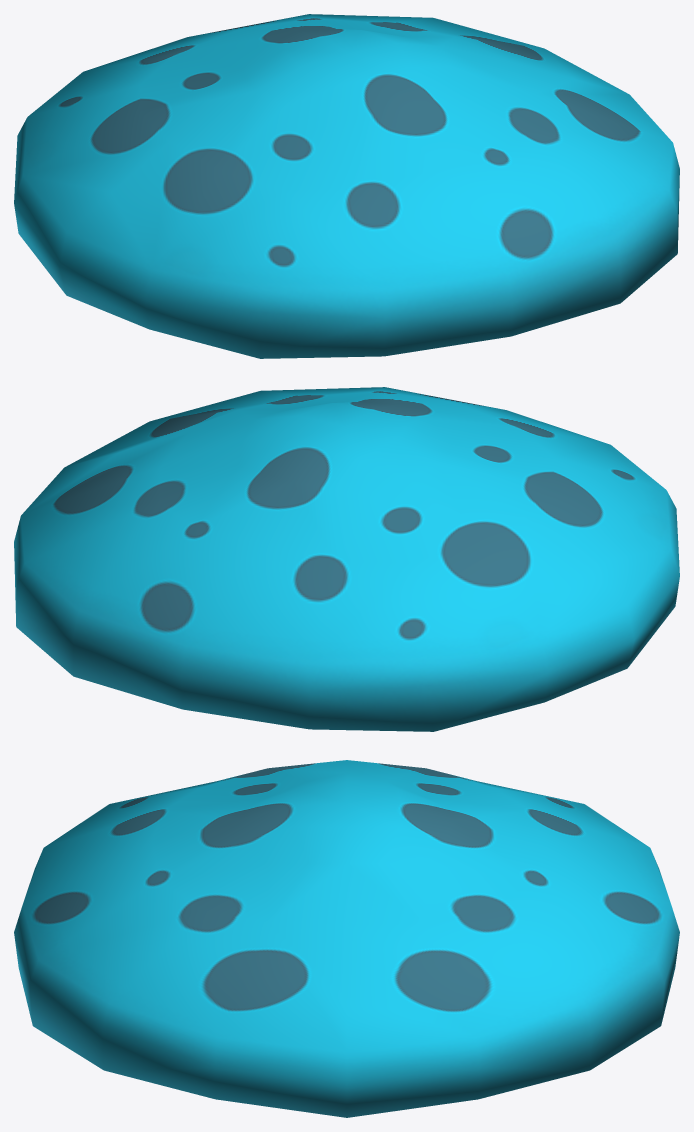
The model's file is mushroom_jump.FBX.
3 renders of one model, top to bottom at view 1: azimuth 30°, elevation 25°; view 2: azimuth 150°, elevation 25°; view 3: azimuth 270°, elevation 25°, orthographic.
Visible parts, largest first — view 1: mushroom; view 2: mushroom; view 3: mushroom.
Part boxes in pixels (<box>): mushroom: <box>14,14,679,358</box>; mushroom: <box>14,387,679,731</box>; mushroom: <box>14,760,679,1117</box>.
Bounding box in the file's own units: 200 × 86.89 × 199.
